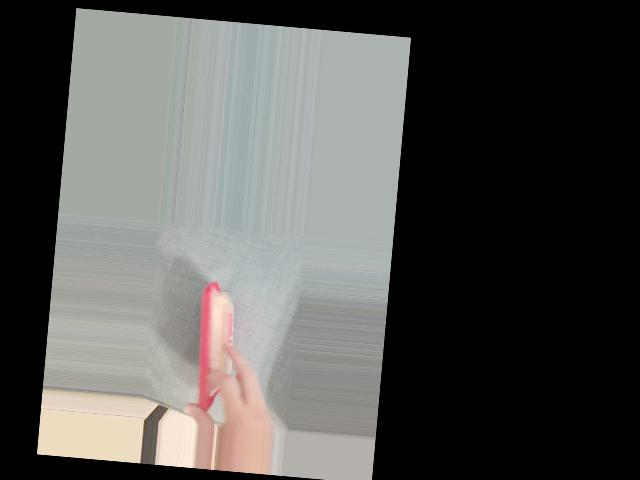cheese: (190, 279, 242, 416)
